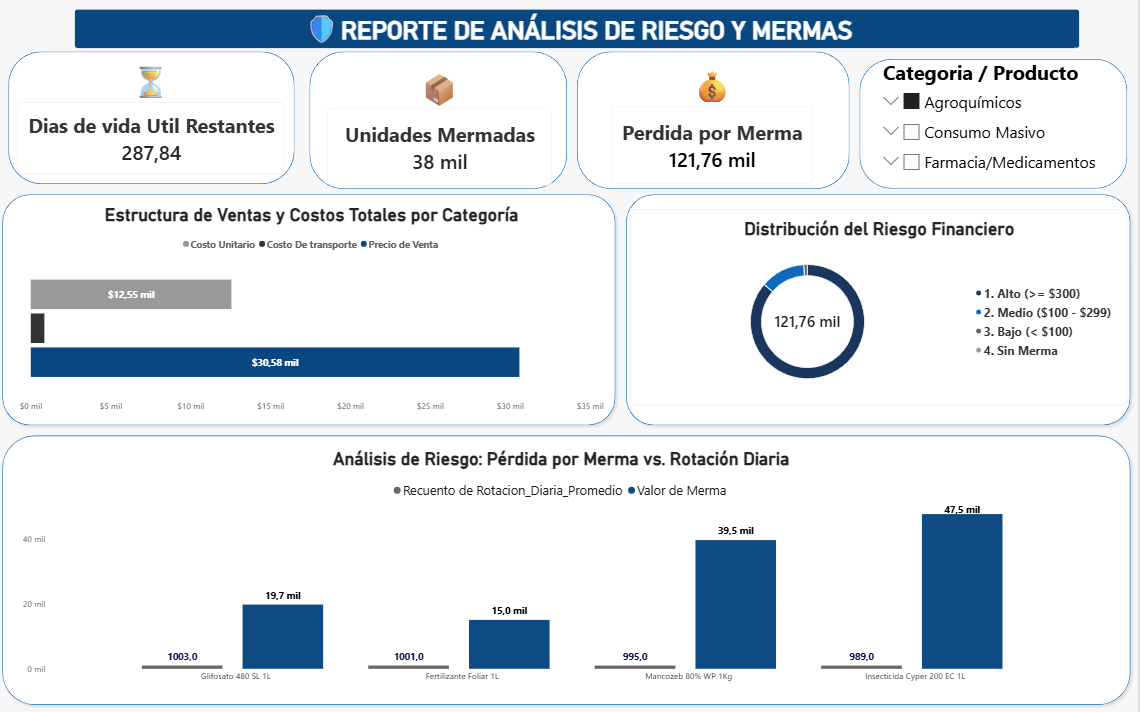

The dashboard page shown, as its layout file describes it:
{"tool":"powerbi","page":{"name":"Página 1","canvas":[1920,1200],"ordinal":0},"visuals":[{"type":"shape","box":[1451.9,101.9,450.6,218.1],"z":0},{"type":"shape","box":[976,88.3,458.5,231.4],"z":1000},{"type":"shape","box":[525.9,88.3,433.3,231.4],"z":2000},{"type":"shape","box":[18.9,88.3,481.7,223],"z":3000},{"type":"shape","box":[1049.6,319.7,866.7,406.5],"z":4000},{"type":"shape","box":[0,726.2,1916.3,471.2],"z":5000},{"type":"shape","box":[0,319.7,1049.6,406.5],"z":6000},{"type":"clusteredBarChart","title":"Estructura de Ventas y Costos Totales por Categoría","fields":{"Category":["Simulacion_Control_Interno_Mermas.Categoria"],"Y":["Sum(Simulacion_Control_Interno_Mermas.Costo_Unitario_USD)","Sum(Simulacion_Control_Interno_Mermas.Costo_Transporte_Unit_USD)","Sum(Simulacion_Control_Interno_Mermas.Precio_Venta_USD)"]},"box":[37,345.6,983.1,354.8],"z":7000},{"type":"lineClusteredColumnComboChart","title":"Análisis de Riesgo: Pérdida por Merma vs. Rotación Diaria","fields":{"Category":["Simulacion_Control_Interno_Mermas.Producto"],"Y":["CountNonNull(Simulacion_Control_Interno_Mermas.Rotacion_Diaria_Promedio)","Sum(Simulacion_Control_Interno_Mermas.Valor_Merma_USD)"]},"box":[27.7,742.9,1844.2,428.7],"z":8000},{"type":"donutChart","title":"Distribución del Riesgo Financiero","fields":{"Category":["Simulacion_Control_Interno_Mermas.Impacto_Financiero"],"Y":["Sum(Simulacion_Control_Interno_Mermas.Valor_Merma_USD)"]},"box":[1066.4,353.4,835.1,330.2],"z":9000},{"type":"cardVisual","title":"📦","fields":{"Data":["Sum(Simulacion_Control_Interno_Mermas.Unidades_Mermadas)"]},"box":[556.2,112.7,378.3,201.2],"z":10000},{"type":"cardVisual","title":"💰","fields":{"Data":["Sum(Simulacion_Control_Interno_Mermas.Valor_Merma_USD)"]},"box":[1033.5,109.1,340.8,201.9],"z":11000},{"type":"slicer","fields":{"Values":["Simulacion_Control_Interno_Mermas.Categoria","Simulacion_Control_Interno_Mermas.Producto"]},"box":[1482,101.6,389.9,201.4],"z":12000},{"type":"textbox","title":"🛡️REPORTE DE ANÁLISIS DE RIESGO Y MERMAS","box":[130.5,16.1,1691.5,66.2],"z":13000},{"type":"cardVisual","title":"⏳","fields":{"Data":["Avg(Simulacion_Control_Interno_Mermas.RSL_Dias_Remanentes)"]},"box":[33.7,103.1,450.1,191.4],"z":14000}]}

Visuals, with their boxes in screenshot pixels (x1, y1, x2, y2), scaled from the page's 1920x1200 canvas onto the 1140x712 screenshot:
shape: [x1=862, y1=60, x2=1130, y2=190]
shape: [x1=580, y1=52, x2=852, y2=190]
shape: [x1=312, y1=52, x2=570, y2=190]
shape: [x1=11, y1=52, x2=297, y2=185]
shape: [x1=623, y1=190, x2=1138, y2=431]
shape: [x1=0, y1=431, x2=1138, y2=710]
shape: [x1=0, y1=190, x2=623, y2=431]
"Estructura de Ventas y Costos Totales por Categoría" clusteredBarChart: [x1=22, y1=205, x2=606, y2=416]
"Análisis de Riesgo: Pérdida por Merma vs. Rotación Diaria" lineClusteredColumnComboChart: [x1=16, y1=441, x2=1111, y2=695]
"Distribución del Riesgo Financiero" donutChart: [x1=633, y1=210, x2=1129, y2=406]
"📦" cardVisual: [x1=330, y1=67, x2=555, y2=186]
"💰" cardVisual: [x1=614, y1=65, x2=816, y2=185]
slicer - Simulacion_Control_Interno_Mermas.Categoria x Simulacion_Control_Interno_Mermas.Producto: [x1=880, y1=60, x2=1111, y2=180]
"🛡️REPORTE DE ANÁLISIS DE RIESGO Y MERMAS" textbox: [x1=77, y1=10, x2=1082, y2=49]
"⏳" cardVisual: [x1=20, y1=61, x2=287, y2=175]
